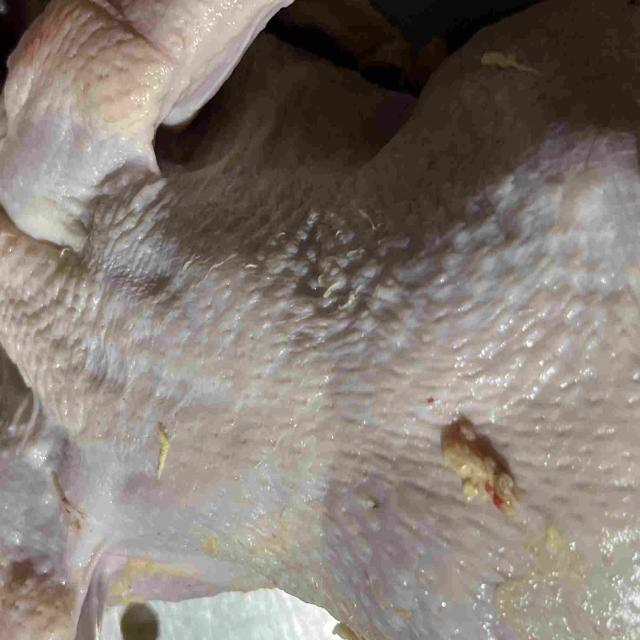back: (83, 120, 640, 640)
leg: (407, 0, 640, 129)
wing: (0, 0, 298, 245), (0, 366, 94, 640)
